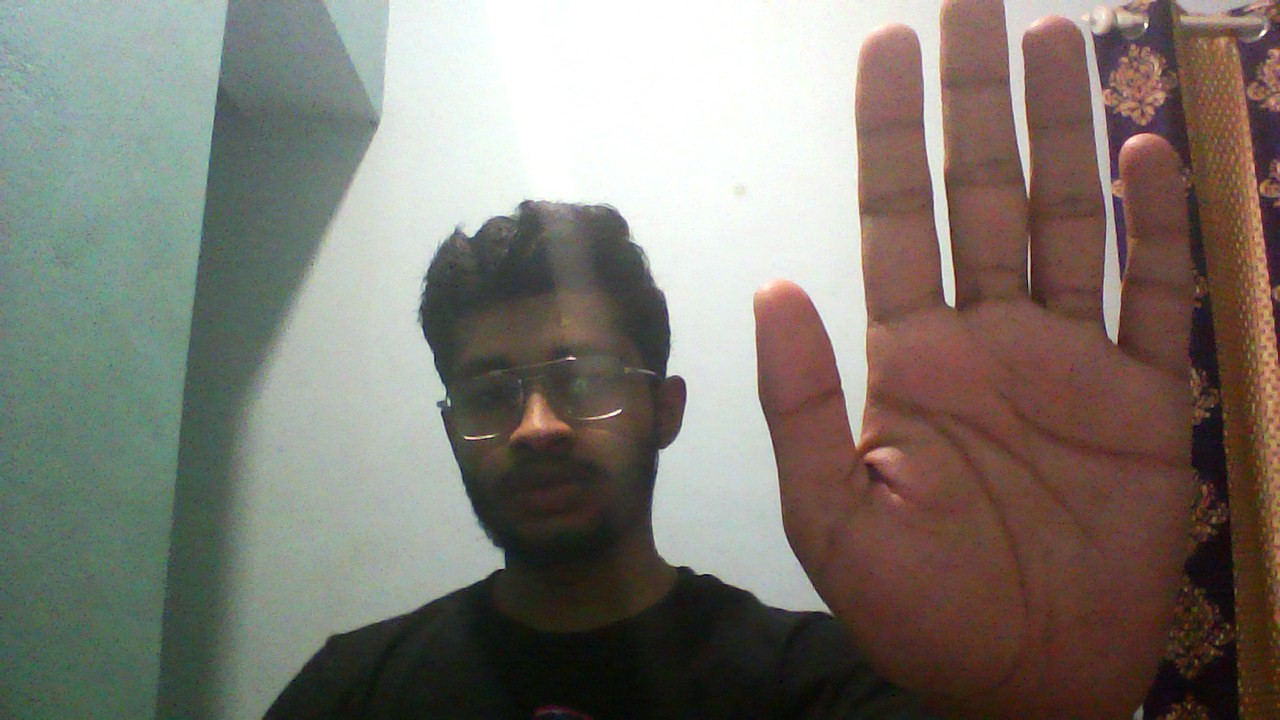Hello: (704, 8, 1264, 707)
